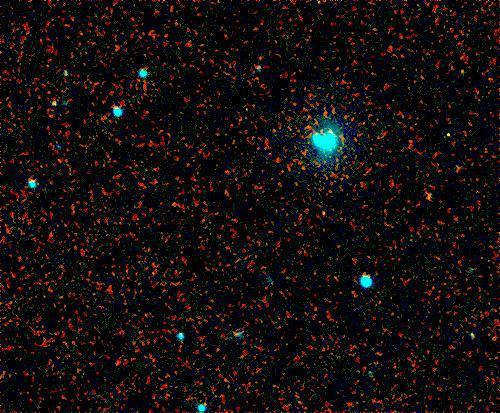star: (442, 153, 472, 183)
